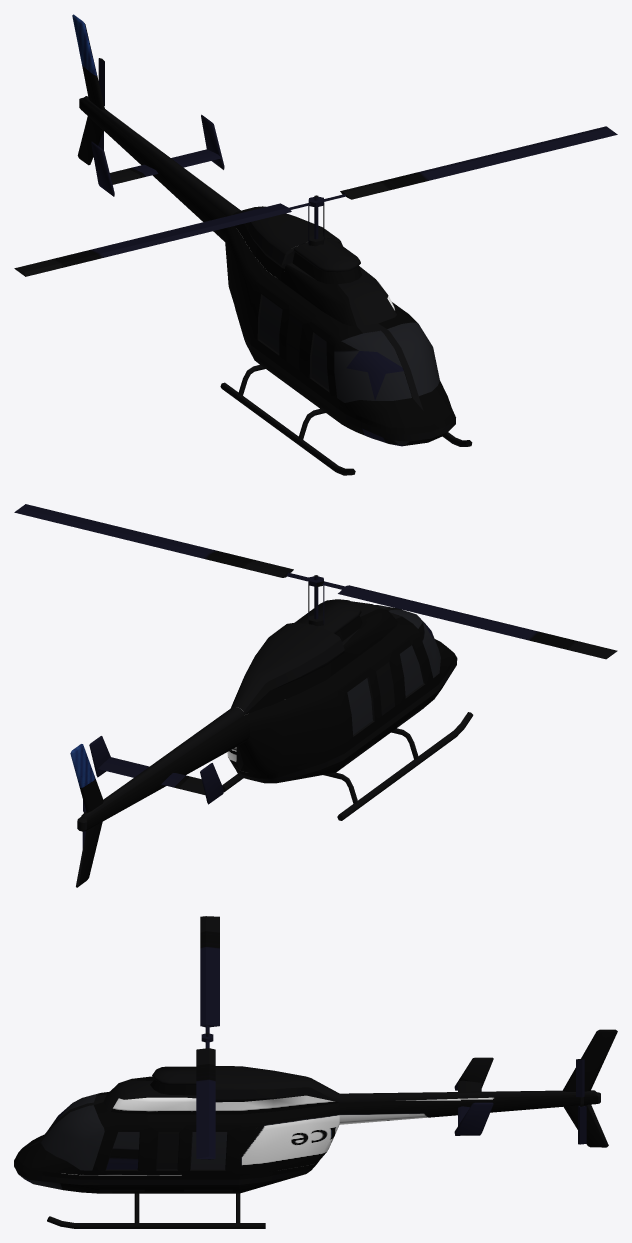
Rendered from Helicopter2.FBX.
3 renders of one model, top to bottom at view 1: azimuth 30°, elevation 25°; view 2: azimuth 150°, elevation 25°; view 3: azimuth 270°, elevation 25°, orthographic. The views are drawn at different scales.
Parts seen in each view (by area): view 1: body, rotor; view 2: body, rotor; view 3: body, rotor, tail.
Boxes of the visible parts, x1=… form: body: x1=72, y1=14, x2=472, y2=475; rotor: x1=14, y1=126, x2=617, y2=276; body: x1=70, y1=582, x2=473, y2=887; rotor: x1=14, y1=504, x2=617, y2=659; body: x1=14, y1=1029, x2=617, y2=1228; rotor: x1=196, y1=916, x2=219, y2=1159; tail: x1=576, y1=1058, x2=586, y2=1144.
Size of the model in its own units: 96.92 by 32.59 by 102.
